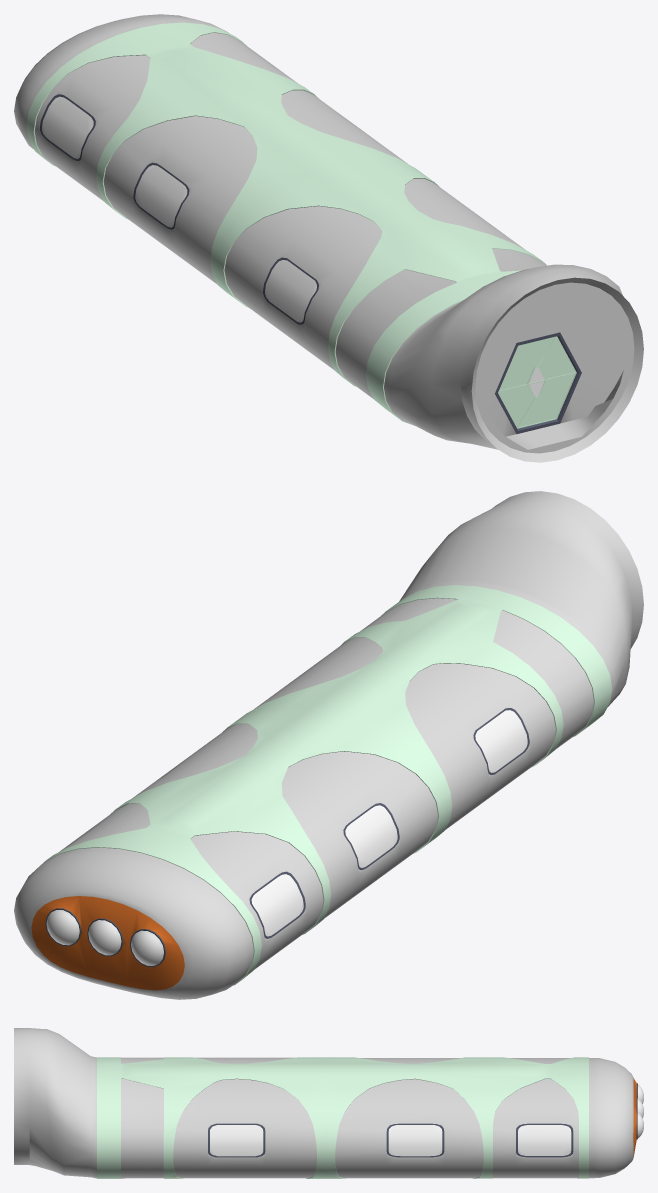
Rendered from Ground_Passenger_Pod.glb.
The picture shows the model from 3 angles, top to bottom: view 1: azimuth 30°, elevation 25°; view 2: azimuth 150°, elevation 25°; view 3: azimuth 270°, elevation 25°; orthographic projection. The views are drawn at different scales.
Visible parts, largest first — view 1: Ground_Passenger_Pod_LOD0, PassengerPod_Hatch_LOD0; view 2: Ground_Passenger_Pod_LOD0; view 3: Ground_Passenger_Pod_LOD0.
Boxes of the visible parts, x1,y1,x2,y2 form: Ground_Passenger_Pod_LOD0: (14,14,643,462); PassengerPod_Hatch_LOD0: (498,336,576,428); Ground_Passenger_Pod_LOD0: (14,491,643,999); Ground_Passenger_Pod_LOD0: (14,1028,643,1178).
Size of what is drawn, in the model's own units: 5.36 by 4.06 by 18.61.
